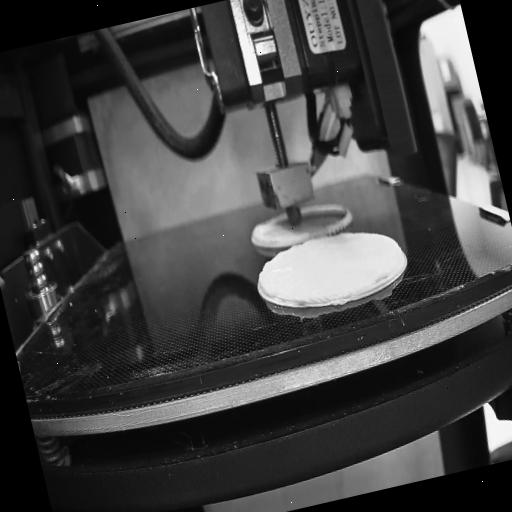over_extrusion: (252, 258, 280, 302)
